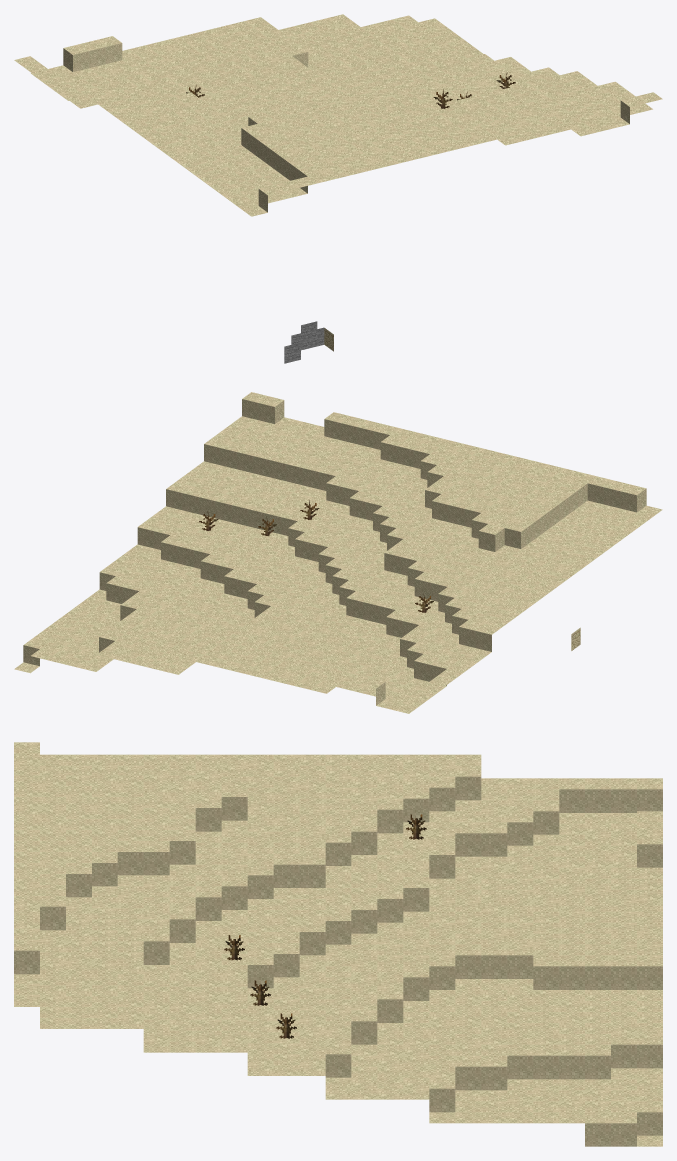
The model's file is chunk75-525-lvl-1-transformed.glb.
3 renders of one model, top to bottom at view 1: azimuth 30°, elevation 25°; view 2: azimuth 150°, elevation 25°; view 3: azimuth 270°, elevation 25°, orthographic. The views are drawn at different scales.
Parts seen in each view (by area): view 1: Sand, Stone; view 2: Sand, Dead_Bush; view 3: Sand, Dead_Bush.
Boxes of the visible parts, bbox=[...] form: Sand: bbox=[14, 14, 662, 216]; Stone: bbox=[284, 321, 324, 363]; Sand: bbox=[14, 392, 662, 713]; Dead_Bush: bbox=[199, 500, 433, 612]; Sand: bbox=[14, 742, 662, 1146]; Dead_Bush: bbox=[224, 814, 426, 1038].
Bounding box in the file's own units: 25 × 10 × 25.
5 materials, 5 textured.
